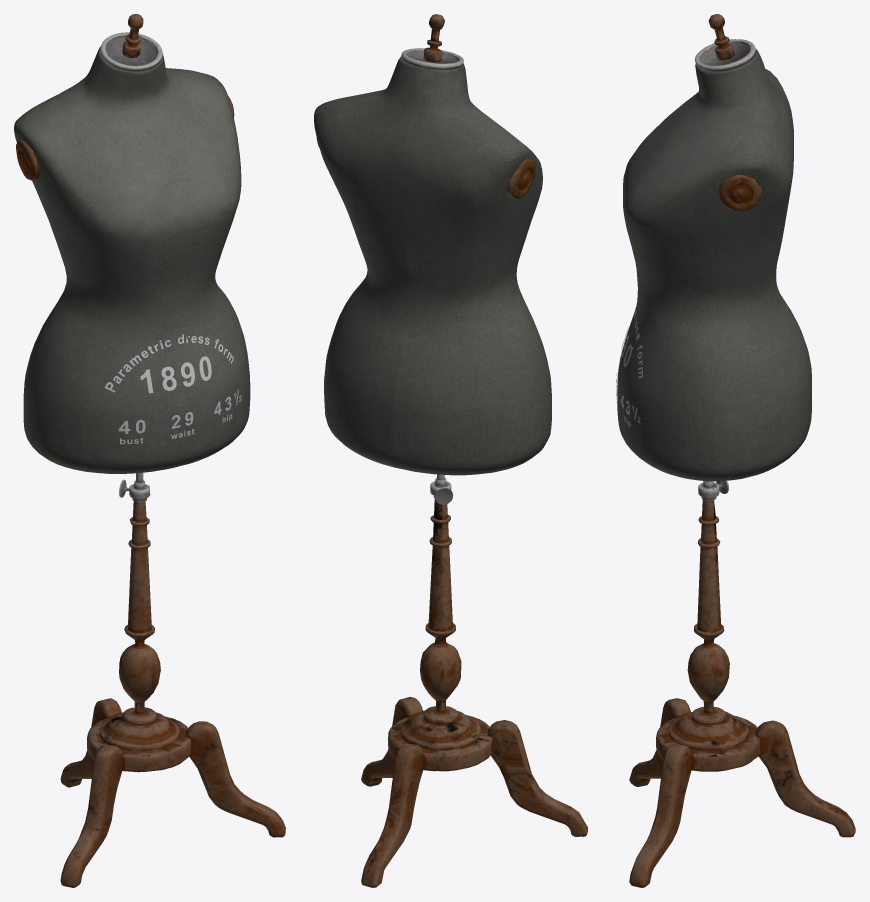
The model's file is dress_form.gltf.
3 views of the same model, side by side, from view 1: azimuth 30°, elevation 25°; view 2: azimuth 150°, elevation 25°; view 3: azimuth 270°, elevation 25° (orthographic).
Visible parts, largest first — view 1: Mannequin_4, Wood_4, Text_4, Metal_4; view 2: Mannequin_4, Wood_4, Metal_4; view 3: Mannequin_4, Wood_4, Metal_4, Text_4.
Part boxes in pixels (bbox=[...]): Mannequin_4: bbox=[14, 46, 250, 473]; Wood_4: bbox=[16, 14, 285, 887]; Text_4: bbox=[104, 334, 241, 444]; Metal_4: bbox=[100, 32, 162, 502]; Mannequin_4: bbox=[314, 57, 551, 475]; Wood_4: bbox=[316, 14, 587, 887]; Metal_4: bbox=[401, 48, 463, 504]; Mannequin_4: bbox=[617, 49, 811, 481]; Wood_4: bbox=[629, 14, 855, 887]; Metal_4: bbox=[695, 39, 756, 501]; Text_4: bbox=[616, 307, 642, 426].
Bounding box in the file's own units: 0.4168 × 1.46 × 0.3849.
4 materials, 4 textured.
